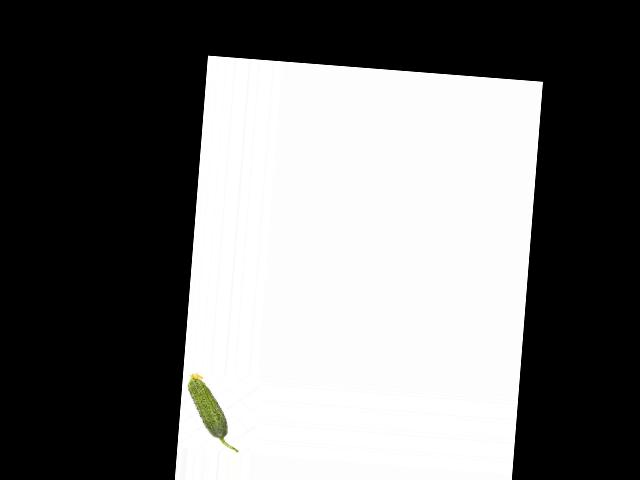cucumber: (182, 371, 244, 452)
